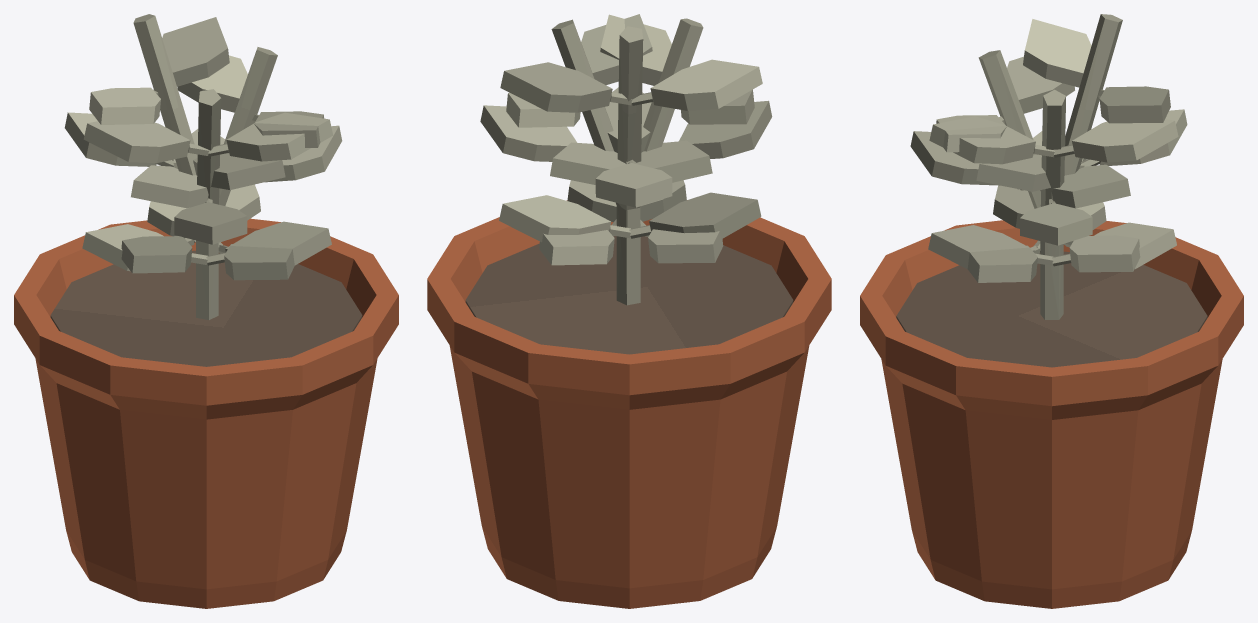
The model's file is new-tomentosa-kal.glb.
The picture shows the model from 3 angles, left to right: view 1: azimuth 30°, elevation 25°; view 2: azimuth 150°, elevation 25°; view 3: azimuth 270°, elevation 25°; orthographic projection. The views are drawn at different scales.
Visible parts, largest first — view 1: new-tomentosa-kal/review-terra-vessel, new-tomentosa-kal/review-rooted-soil, new-tomentosa-kal/stem-014, new-tomentosa-kal/leaf-037, new-tomentosa-kal/leaf-024, new-tomentosa-kal/leaf-039, new-tomentosa-kal/stem-001, new-tomentosa-kal/leaf-026, new-tomentosa-kal/leaf-018, new-tomentosa-kal/leaf-033, new-tomentosa-kal/leaf-009, new-tomentosa-kal/leaf-031 (+10 smaller); view 2: new-tomentosa-kal/review-terra-vessel, new-tomentosa-kal/review-rooted-soil, new-tomentosa-kal/leaf-026, new-tomentosa-kal/leaf-024, new-tomentosa-kal/stem-027, new-tomentosa-kal/stem-014, new-tomentosa-kal/leaf-018, new-tomentosa-kal/leaf-016, new-tomentosa-kal/leaf-007, new-tomentosa-kal/stem-001, new-tomentosa-kal/leaf-033, new-tomentosa-kal/leaf-020 (+11 smaller); view 3: new-tomentosa-kal/review-terra-vessel, new-tomentosa-kal/review-rooted-soil, new-tomentosa-kal/stem-014, new-tomentosa-kal/leaf-026, new-tomentosa-kal/leaf-013, new-tomentosa-kal/stem-027, new-tomentosa-kal/leaf-011, new-tomentosa-kal/stem-001, new-tomentosa-kal/leaf-024, new-tomentosa-kal/leaf-035, new-tomentosa-kal/leaf-016, new-tomentosa-kal/leaf-007 (+9 smaller).
Part boxes in pixels (box(x1,y1,x2,y2)): new-tomentosa-kal/review-terra-vessel: box(14, 218, 398, 608); new-tomentosa-kal/review-rooted-soil: box(50, 250, 362, 366); new-tomentosa-kal/stem-014: box(133, 14, 208, 319); new-tomentosa-kal/leaf-037: box(83, 121, 190, 163); new-tomentosa-kal/leaf-024: box(162, 17, 229, 86); new-tomentosa-kal/leaf-039: box(226, 112, 333, 161); new-tomentosa-kal/stem-001: box(209, 47, 277, 319); new-tomentosa-kal/leaf-026: box(89, 87, 160, 124); new-tomentosa-kal/leaf-018: box(121, 236, 192, 273); new-tomentosa-kal/leaf-033: box(174, 202, 247, 244); new-tomentosa-kal/leaf-009: box(131, 165, 208, 208); new-tomentosa-kal/leaf-031: box(225, 221, 331, 265); new-tomentosa-kal/review-terra-vessel: box(427, 200, 831, 608); new-tomentosa-kal/review-rooted-soil: box(465, 236, 793, 354); new-tomentosa-kal/leaf-026: box(650, 59, 762, 110); new-tomentosa-kal/leaf-024: box(500, 62, 612, 112); new-tomentosa-kal/stem-027: box(627, 18, 703, 305); new-tomentosa-kal/stem-014: box(616, 26, 643, 299); new-tomentosa-kal/leaf-018: box(649, 192, 761, 239); new-tomentosa-kal/leaf-016: box(499, 195, 611, 242); new-tomentosa-kal/leaf-007: box(480, 105, 577, 161); new-tomentosa-kal/stem-001: box(551, 19, 626, 305); new-tomentosa-kal/leaf-033: box(679, 100, 772, 158); new-tomentosa-kal/leaf-020: box(595, 163, 672, 207); new-tomentosa-kal/review-terra-vessel: box(860, 220, 1243, 608); new-tomentosa-kal/review-rooted-soil: box(896, 251, 1207, 367); new-tomentosa-kal/stem-014: box(1052, 14, 1122, 318); new-tomentosa-kal/leaf-026: box(1023, 19, 1091, 87); new-tomentosa-kal/leaf-013: box(1072, 119, 1178, 162); new-tomentosa-kal/stem-027: box(978, 50, 1058, 319); new-tomentosa-kal/leaf-011: box(929, 116, 1035, 164); new-tomentosa-kal/stem-001: box(1040, 89, 1066, 319); new-tomentosa-kal/leaf-024: box(1099, 86, 1170, 123); new-tomentosa-kal/leaf-035: box(1051, 164, 1130, 208); new-tomentosa-kal/leaf-016: box(1069, 235, 1140, 272); new-tomentosa-kal/leaf-007: box(1020, 203, 1092, 245).
Size of the model in its own units: 0.19 by 0.2848 by 0.19.
Materials: 3 (3 with a texture image).
